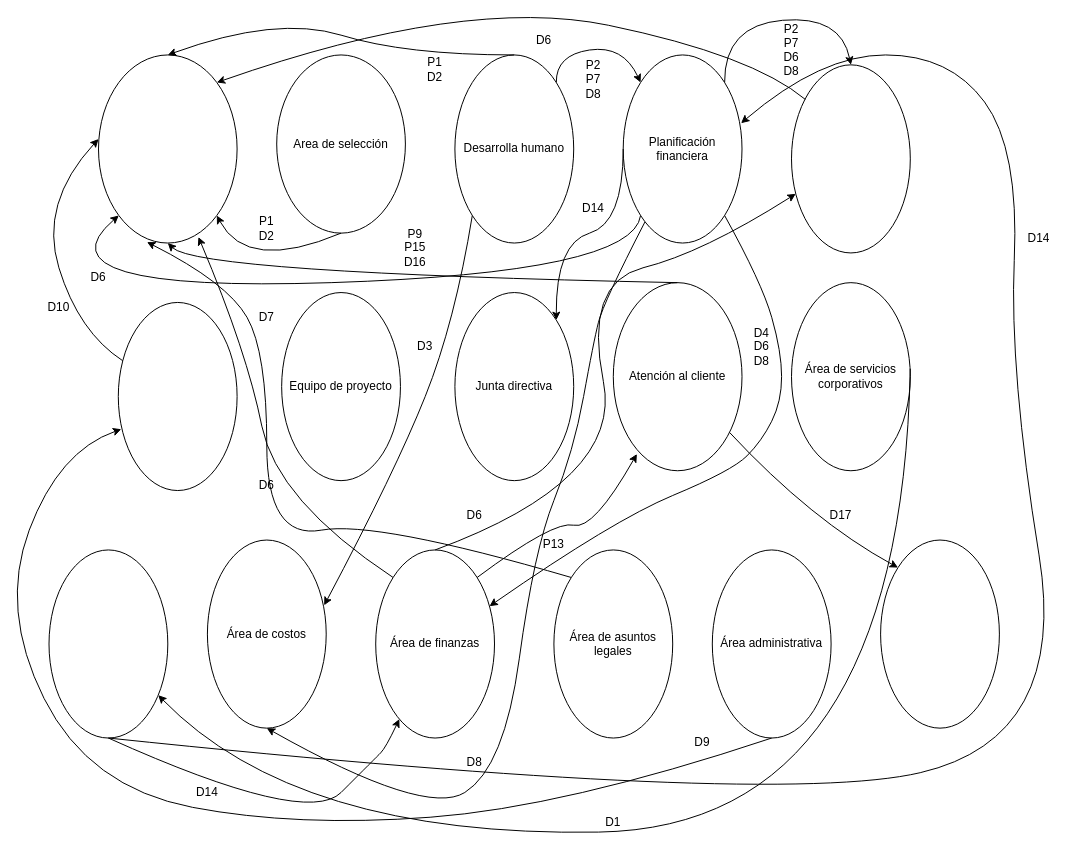
The diagram is 1086 pixels wide and 854 high, and some of its shapes have lost their labels. Here are the shapes that lost their labels. From the top down, the box of each, then its label:
(98, 54, 237, 243): Archivo Central
(791, 64, 910, 253): Tesoreria
(117, 301, 237, 491): Área de suministro
(48, 549, 168, 738): Gerencia
(880, 539, 999, 728): Área de soporte de clientes
